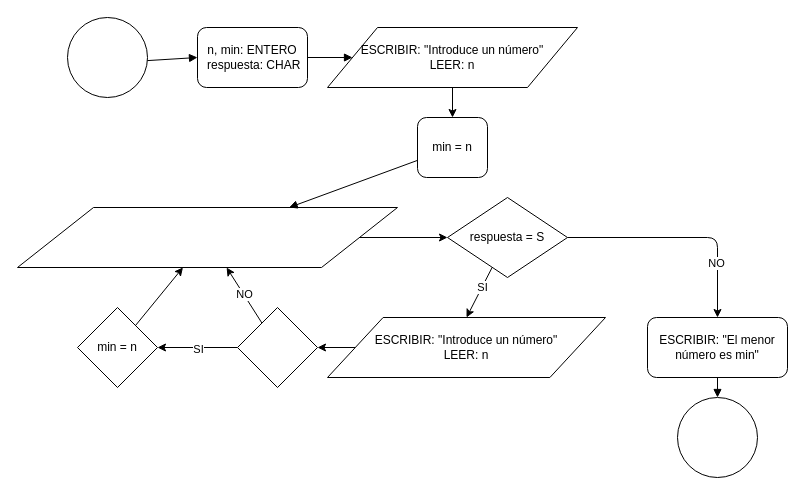
The diagram is 805 pixels wide and 495 high, and some of its shapes have lost their labels. Each missing label, with the centre of its shape:
ESCRIBIR: "¿Desea introducir más números (S/N)?" LEER: respuesta: the point at 207,237
Fin: the point at 717,437
Inicio: the point at 107,57
n < min: the point at 277,347
